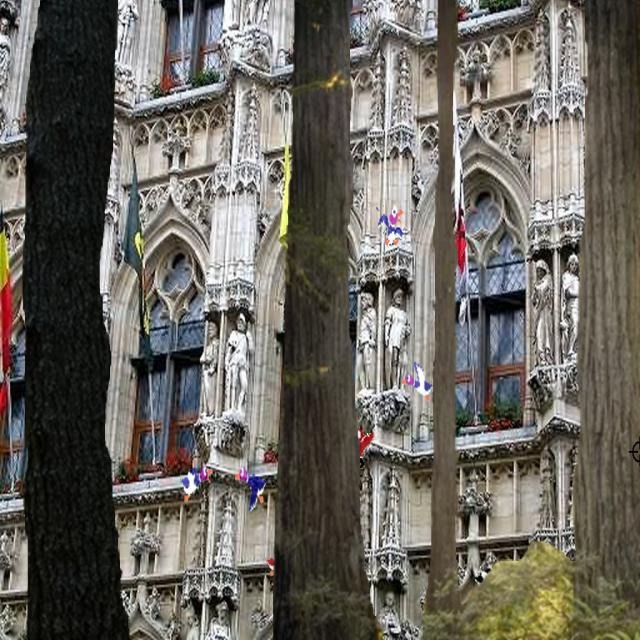duck: (232, 456, 270, 514), (181, 455, 216, 511)
falling_duck: (397, 356, 438, 403), (374, 199, 406, 252), (356, 423, 378, 472)
